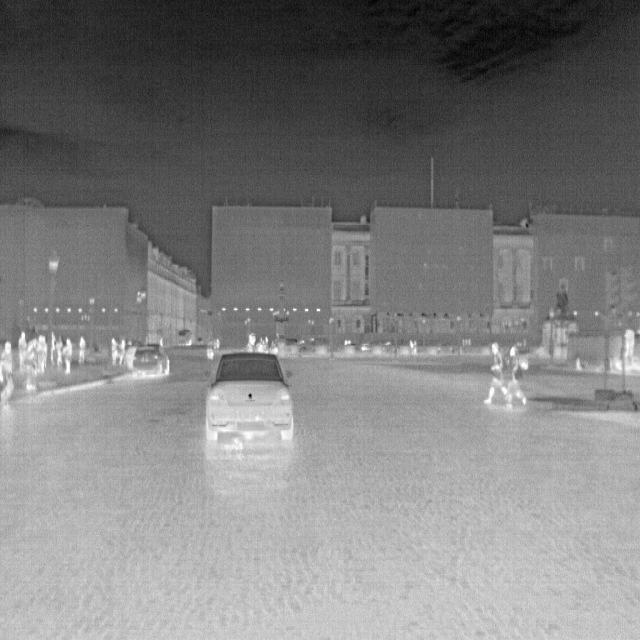Pedestrian: (484, 342, 507, 406), (507, 345, 528, 410), (0, 339, 15, 411), (37, 336, 48, 372), (18, 331, 27, 372), (64, 337, 72, 375), (56, 336, 63, 369), (78, 335, 86, 363), (111, 338, 118, 366)
Vehicle: (201, 348, 296, 448), (131, 342, 171, 378)
